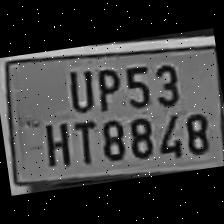3: (148, 58, 182, 106)
4: (152, 109, 183, 160)
5: (119, 58, 152, 108)
8: (94, 113, 128, 164), (123, 112, 155, 162), (180, 107, 211, 155)
H: (36, 116, 72, 172)
P: (88, 62, 122, 113)
T: (66, 116, 100, 167)
U: (58, 64, 95, 116)
